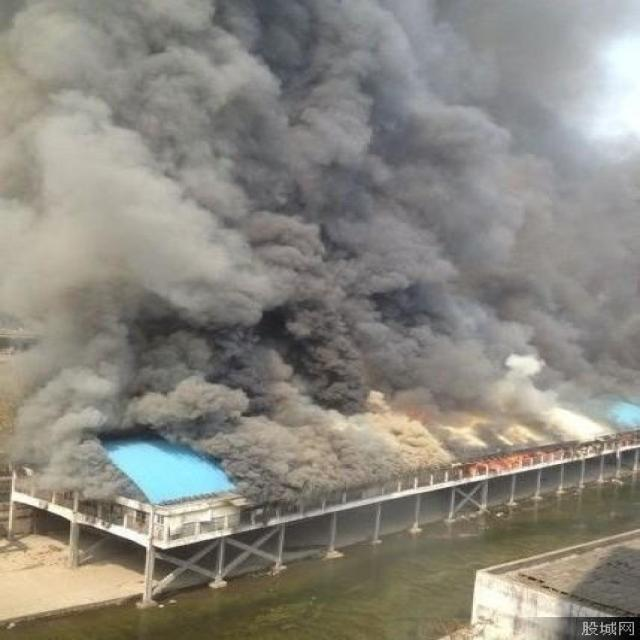Smoke: (1, 1, 640, 505)
